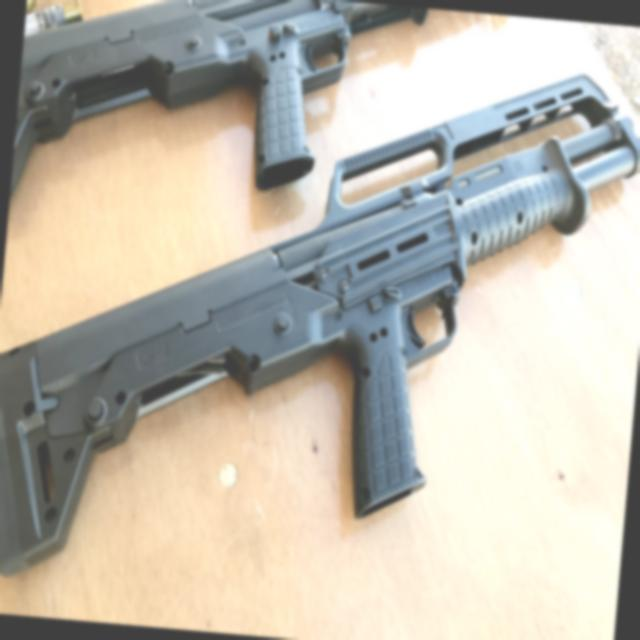shotgun: (0, 51, 640, 628)
